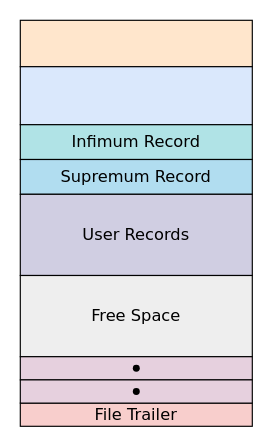
The diagram is 273 pixels wide and 447 high, and some of its shapes have lost their labels. The shapes that lost their labels are listed below. From the top down, each one's centre as x and y in pixels, then its label:
At [135,43]: "File Header".
At [135,95]: "Page Header".
